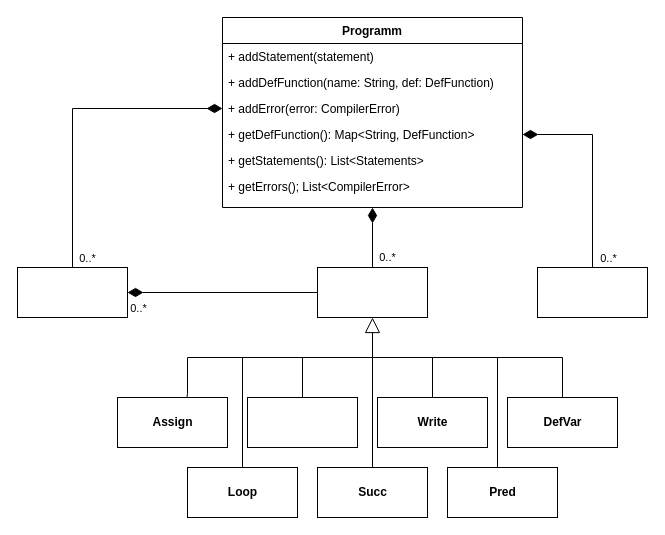
The diagram is 665 pixels wide and 535 high, and some of its shapes have lost their labels. The centre of each missing label's shape, as x and y in pixels:
"CompilerError" goes at point (592, 292).
"DefFunction" goes at point (72, 292).
"While" goes at point (302, 422).
"«abstract» Statement" goes at point (372, 292).
